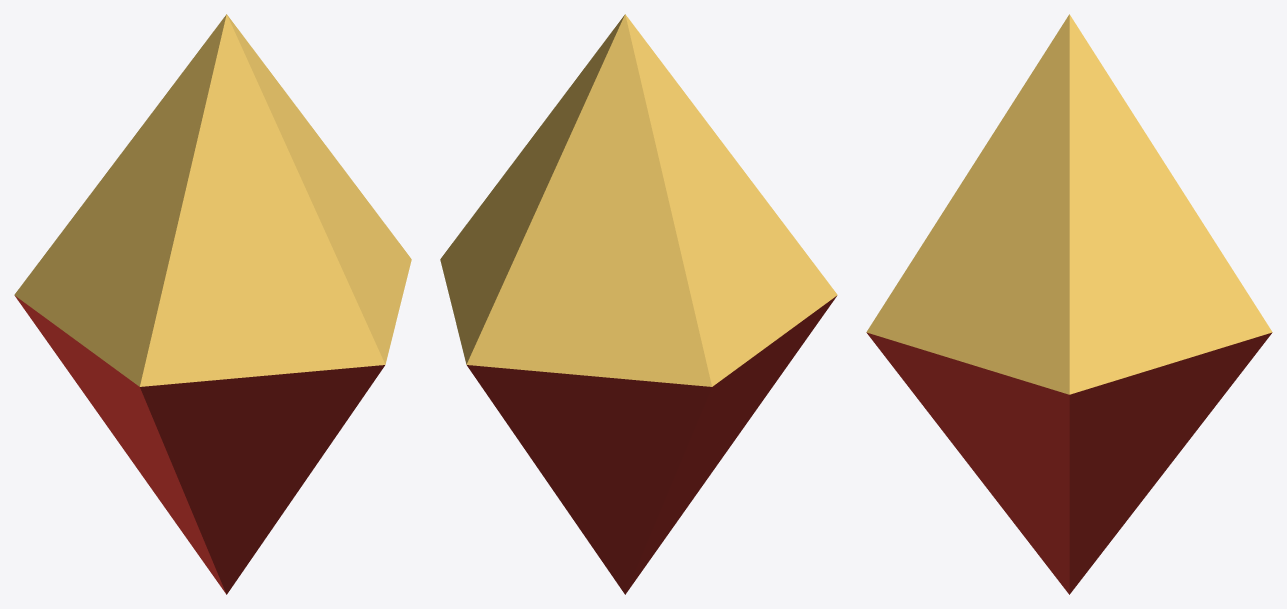
File: hunger_mote.glb
The picture shows the model from 3 angles, left to right: view 1: azimuth 30°, elevation 25°; view 2: azimuth 150°, elevation 25°; view 3: azimuth 270°, elevation 25°; orthographic projection.
Parts seen in each view (by area): view 1: hunger_mote; view 2: hunger_mote; view 3: hunger_mote.
Part boxes in pixels (x1,y1,x2,y2): hunger_mote: [14, 14, 411, 594]; hunger_mote: [440, 14, 837, 594]; hunger_mote: [866, 14, 1272, 594].
Size of the model in its own units: 0.1809 by 0.3 by 0.1902.
Materials: 1 (1 with a texture image).
